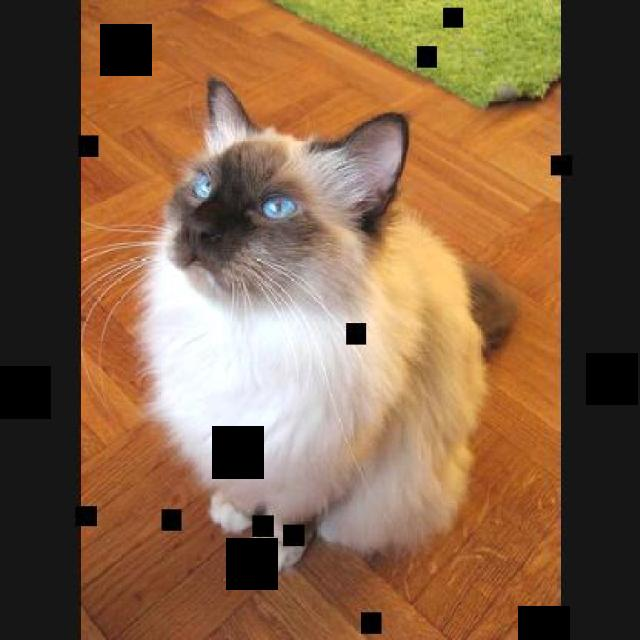unauthorized: (79, 74, 518, 572)
